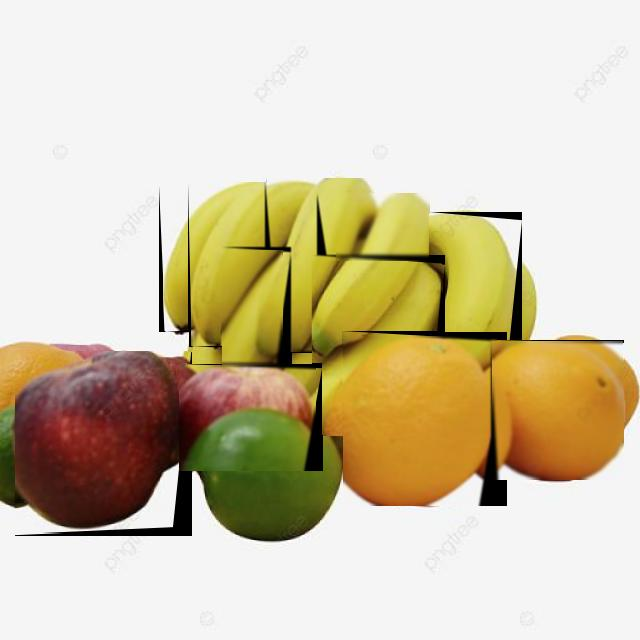Apple: (15, 352, 187, 533), (180, 366, 316, 471)
Banana: (313, 261, 442, 435), (192, 182, 316, 346), (275, 178, 373, 352), (337, 193, 430, 352), (163, 185, 256, 331), (429, 214, 517, 359), (222, 251, 283, 367)
Orange: (343, 336, 497, 506), (493, 342, 623, 480)
